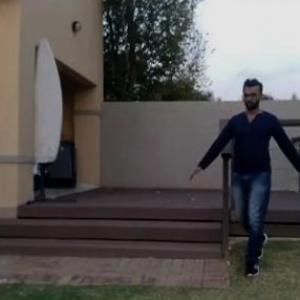land: (146, 53, 299, 294)
